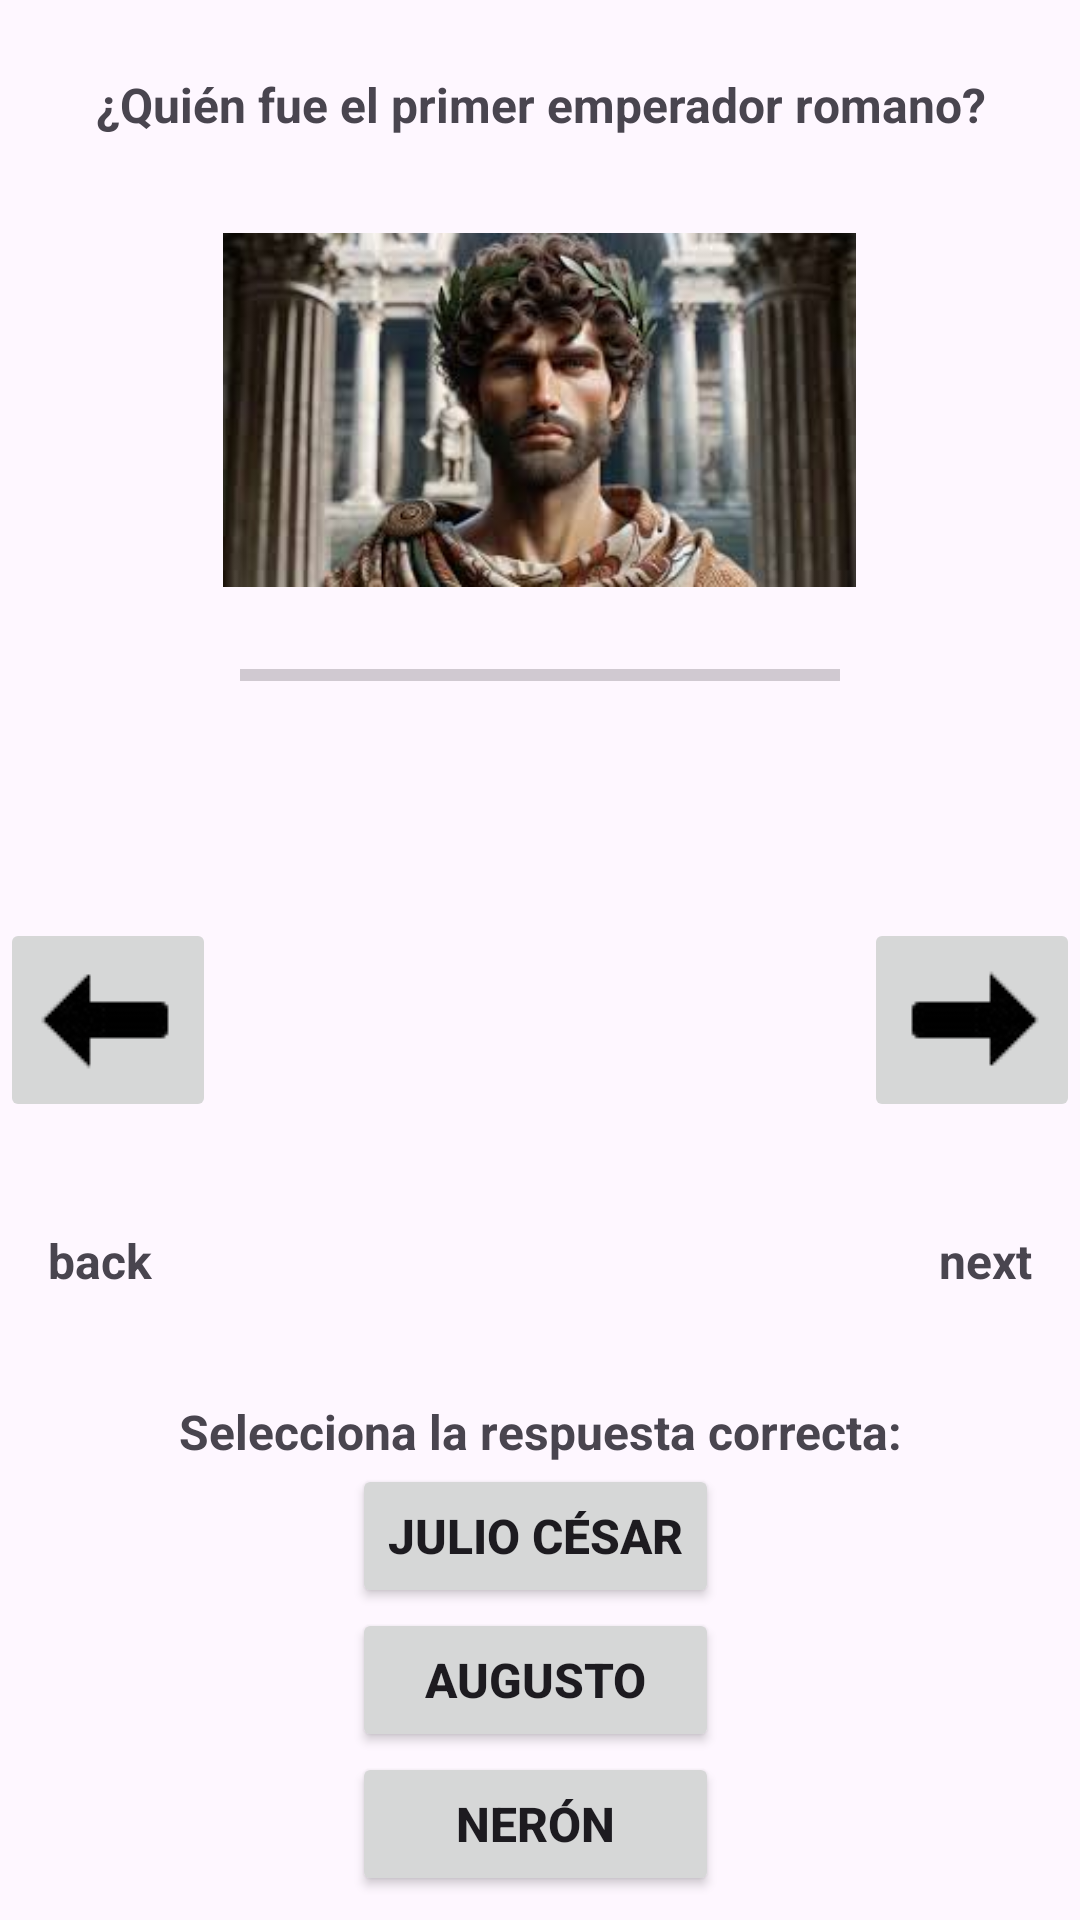

Icon click points for this 1080 x 1920 phone screenshot, format point (x, y):
flecha: point (972, 1020)
flecha copia: point (108, 1020)
